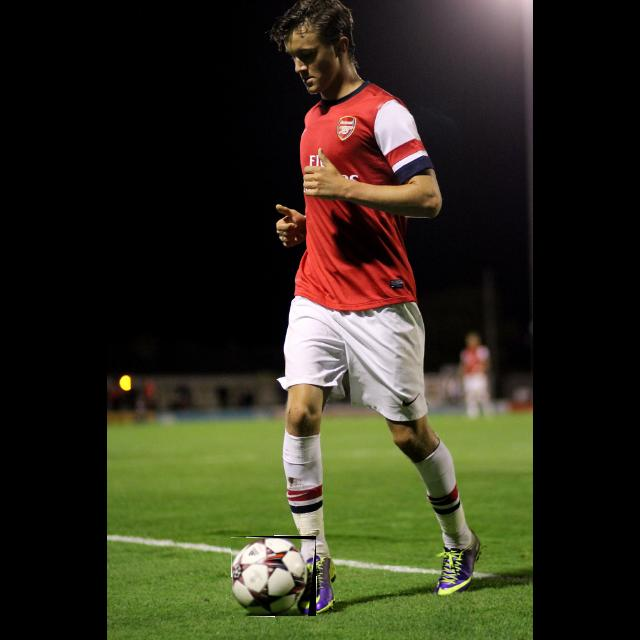Football: (232, 536, 316, 616)
